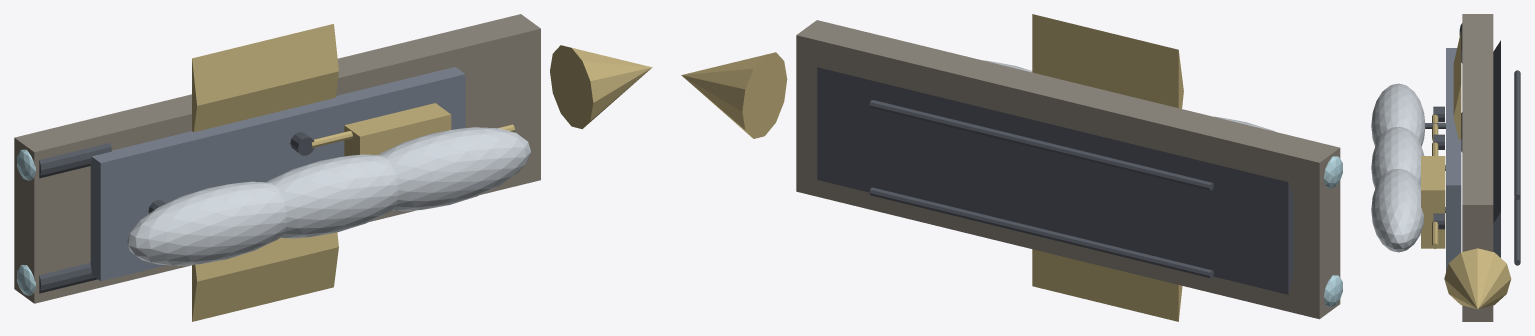
The model's file is SWS-005_bronze_gull_brig.glb.
3 views of the same model, side by side, from view 1: azimuth 30°, elevation 25°; view 2: azimuth 150°, elevation 25°; view 3: azimuth 270°, elevation 25° (orthographic). The views are drawn at different scales.
Parts seen in each view (by area): view 1: main_hull, upper_deck, wing_1, aether_lift_bladder_1, aether_lift_bladder_3, wing_-1, aether_lift_bladder_2, aether_nose, bridge, engine_pod_1, engine_pod_-1, engine_glow_1 (+1 smaller); view 2: keel, main_hull, wing_1, wing_-1, aether_nose, landing_skid_-1, landing_skid_1, engine_glow_-1, engine_glow_1; view 3: main_hull, aether_lift_bladder_3, aether_nose, upper_deck, aether_lift_bladder_1, aether_lift_bladder_2, bridge, keel, landing_skid_1, wing_1, landing_skid_-1, turret_barrel_3 (+4 smaller).
Boxes of the visible parts, x1,y1,x2,y2 form: main_hull: (14,14,540,303); upper_deck: (90,67,465,281); wing_1: (192,24,338,132); aether_lift_bladder_1: (127,181,286,265); aether_lift_bladder_3: (379,127,530,211); wing_-1: (192,232,338,321); aether_lift_bladder_2: (267,154,398,238); aether_nose: (550,45,652,129); bridge: (344,103,451,156); engine_pod_1: (39,143,111,178); engine_pod_-1: (39,262,97,293); engine_glow_1: (17,149,35,180); keel: (817,67,1293,294); main_hull: (796,20,1340,319); wing_1: (1032,14,1183,108); wing_-1: (1032,249,1182,321); aether_nose: (681,52,787,138); landing_skid_-1: (869,187,1213,278); landing_skid_1: (869,100,1213,190); engine_glow_-1: (1324,275,1342,307); engine_glow_1: (1324,156,1342,188); main_hull: (1462,14,1493,321); aether_lift_bladder_3: (1371,169,1423,252); aether_nose: (1444,248,1511,309); upper_deck: (1446,48,1461,271); aether_lift_bladder_1: (1371,83,1425,146); aether_lift_bladder_2: (1371,127,1424,188); bridge: (1421,156,1445,248); keel: (1493,40,1500,257); landing_skid_1: (1514,70,1520,199); wing_1: (1453,31,1461,139); landing_skid_-1: (1514,198,1520,265); turret_barrel_3: (1432,221,1438,248).
Size of the model in its own units: 35.08 by 13.92 by 9.26.
